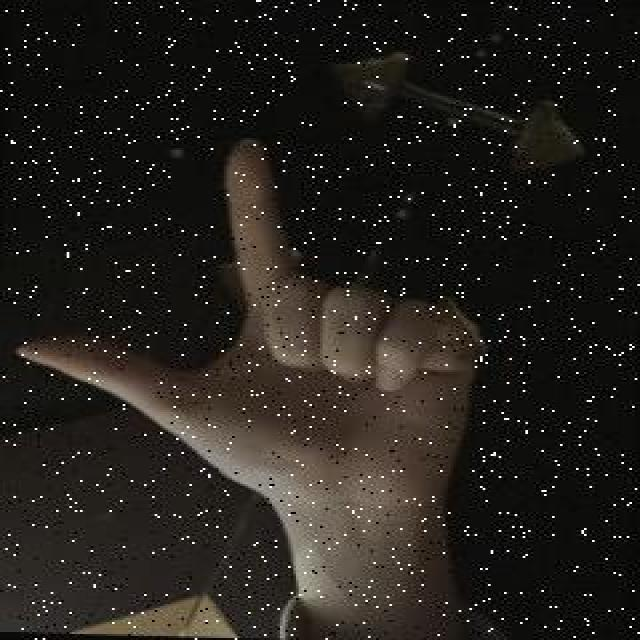L: (0, 76, 504, 536)
